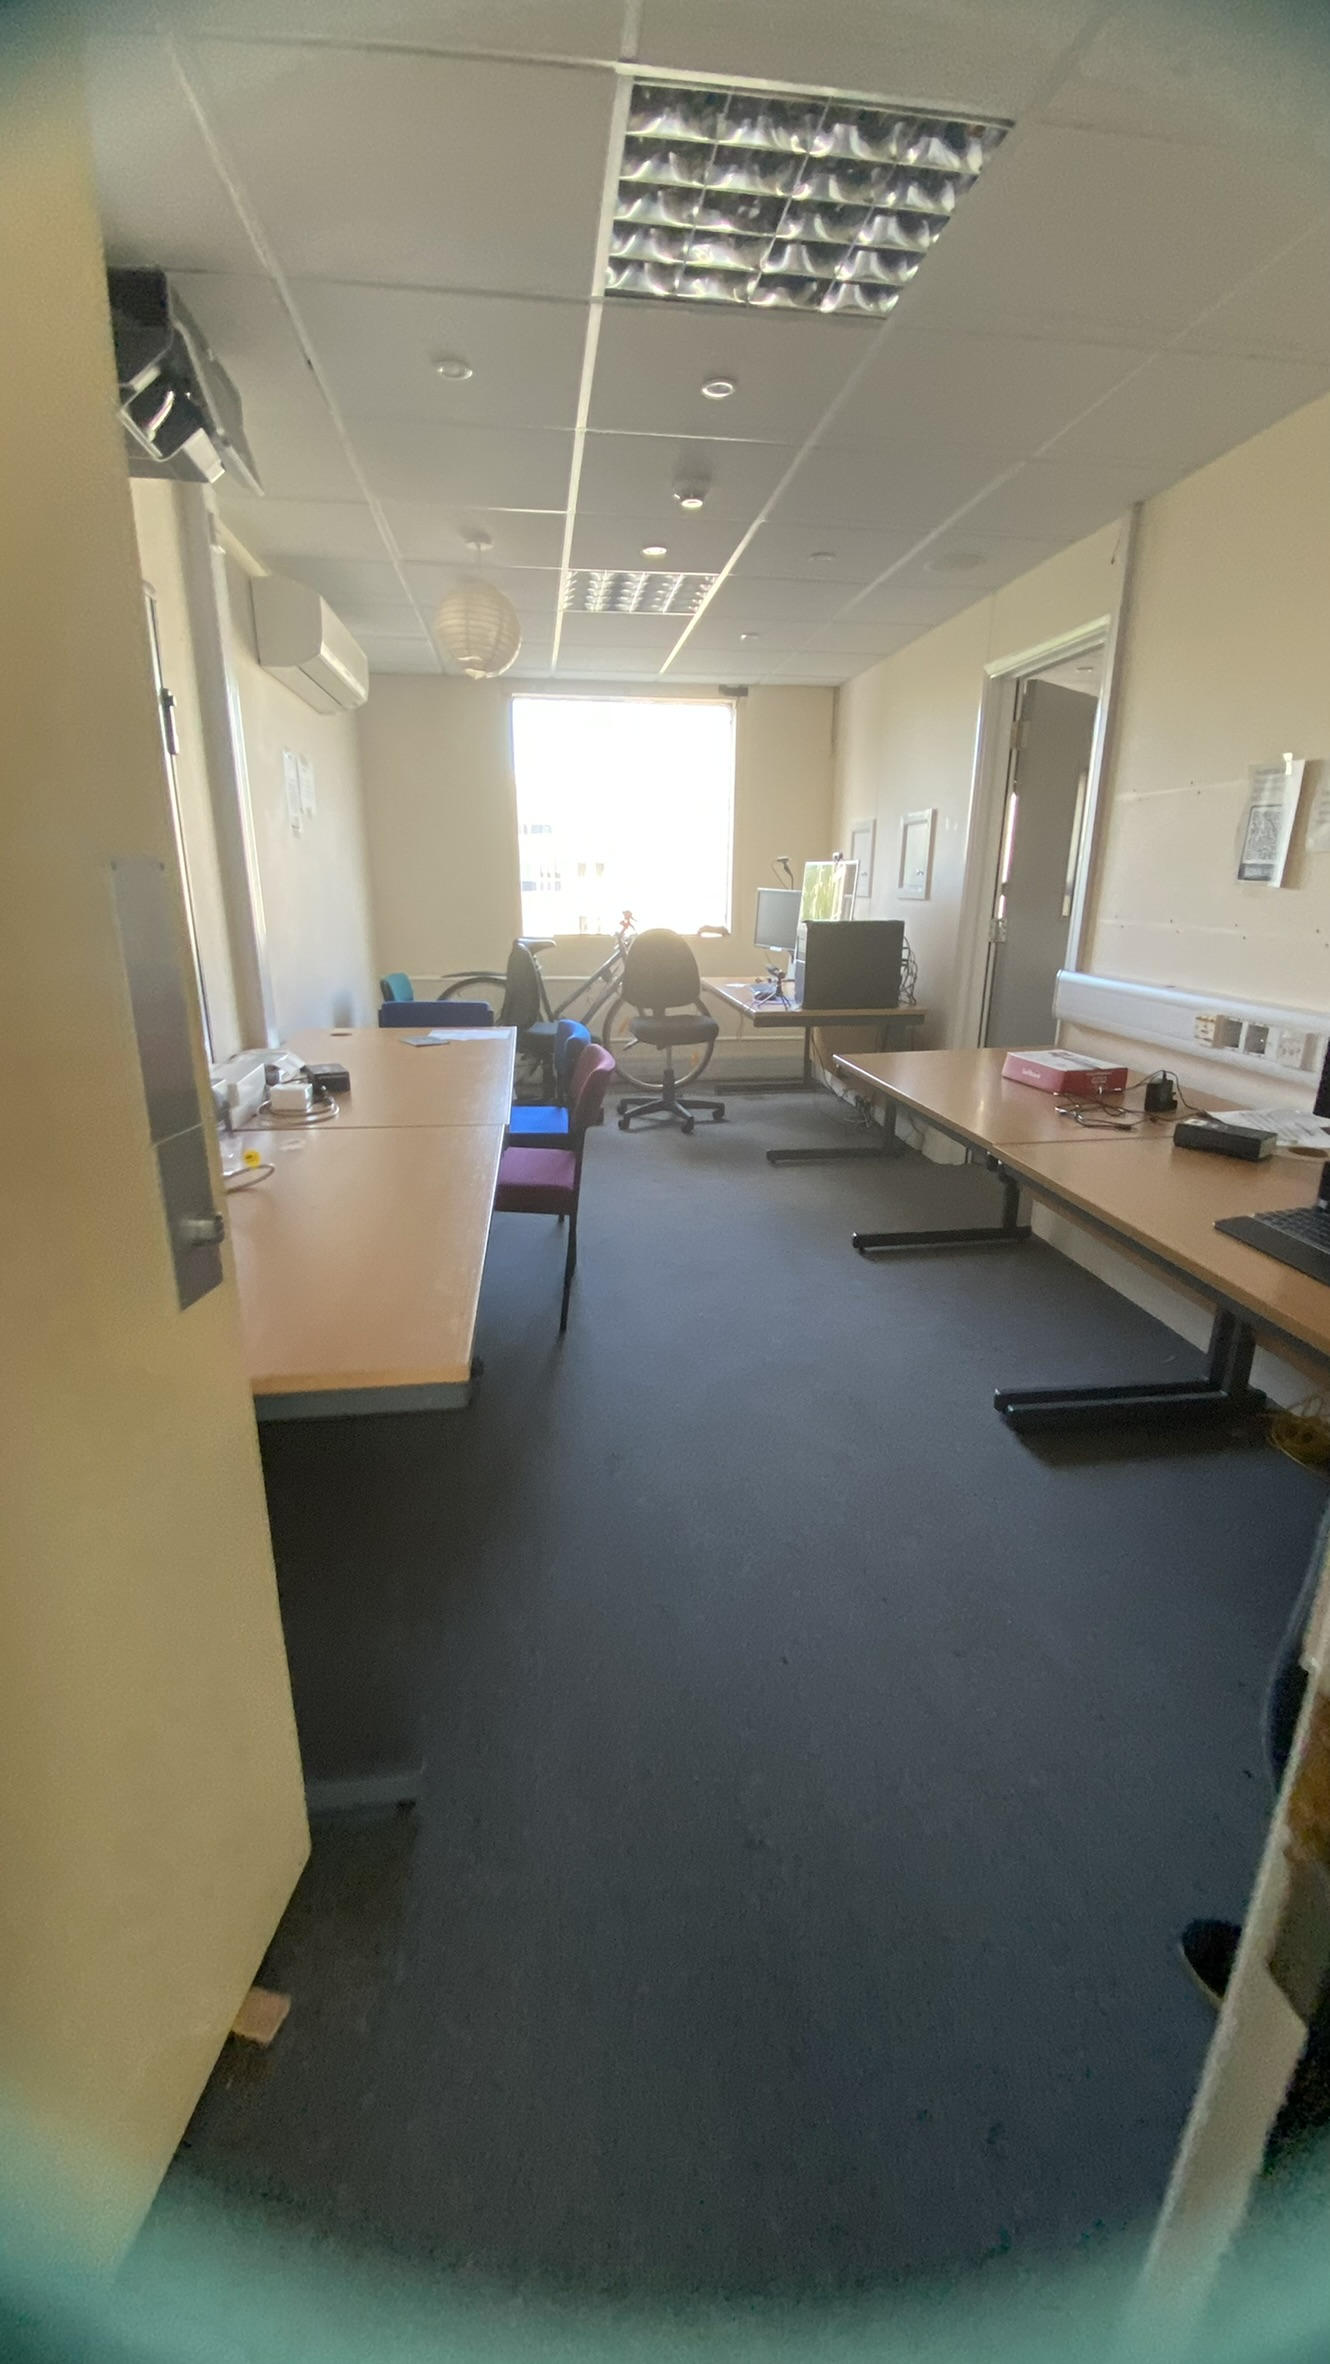chair: (586, 925, 771, 1206), (507, 1036, 627, 1380)
door: (24, 167, 318, 2262)
table: (810, 1021, 1330, 1664), (198, 909, 490, 1567)
